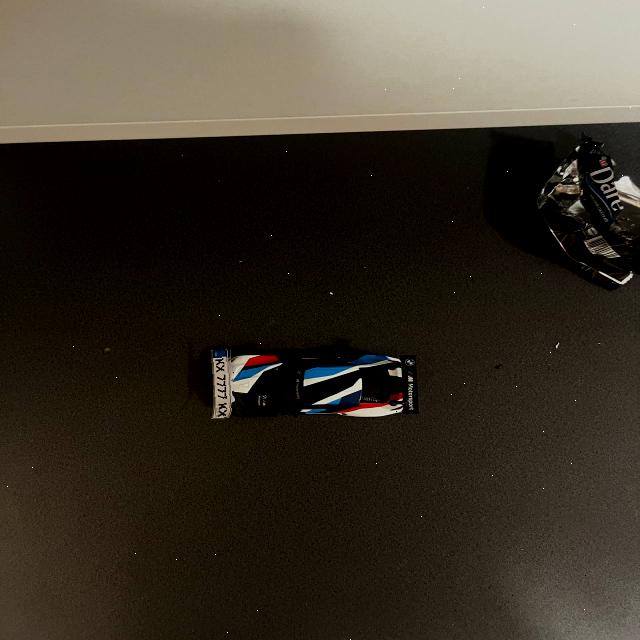KX 7777 KX: (213, 349, 236, 421)
